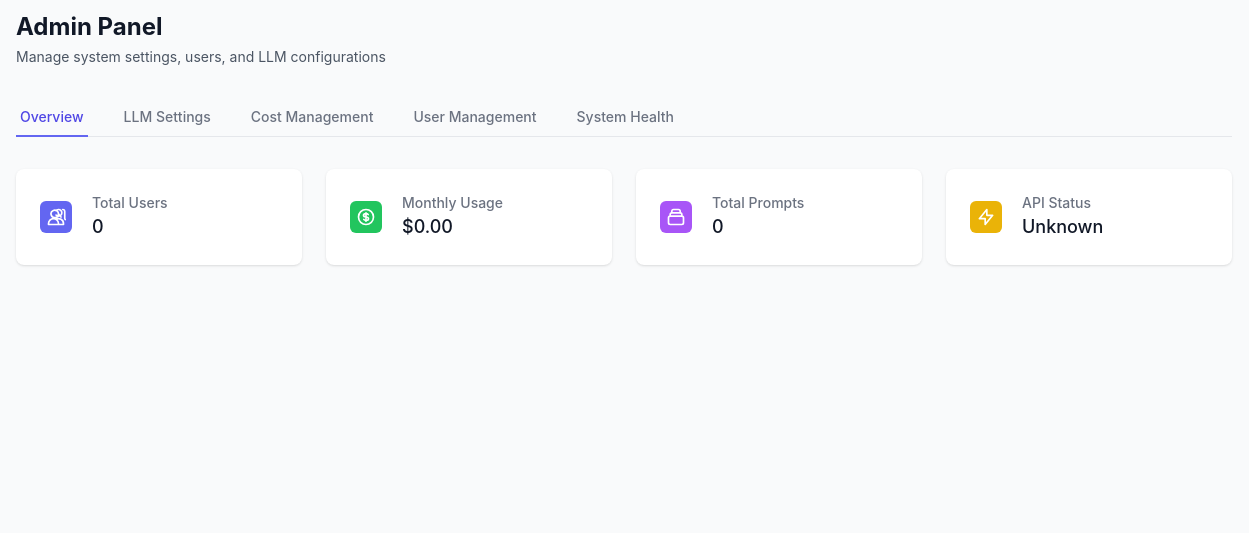
Test case: AdminPanel › should switch tabs when clicked
Click on LLM Settings tab
What coordinates should you click on to do the following:
click the button "LLM Settings"
I would click on:
 (167, 118)
Its box is [120,99,215,137].
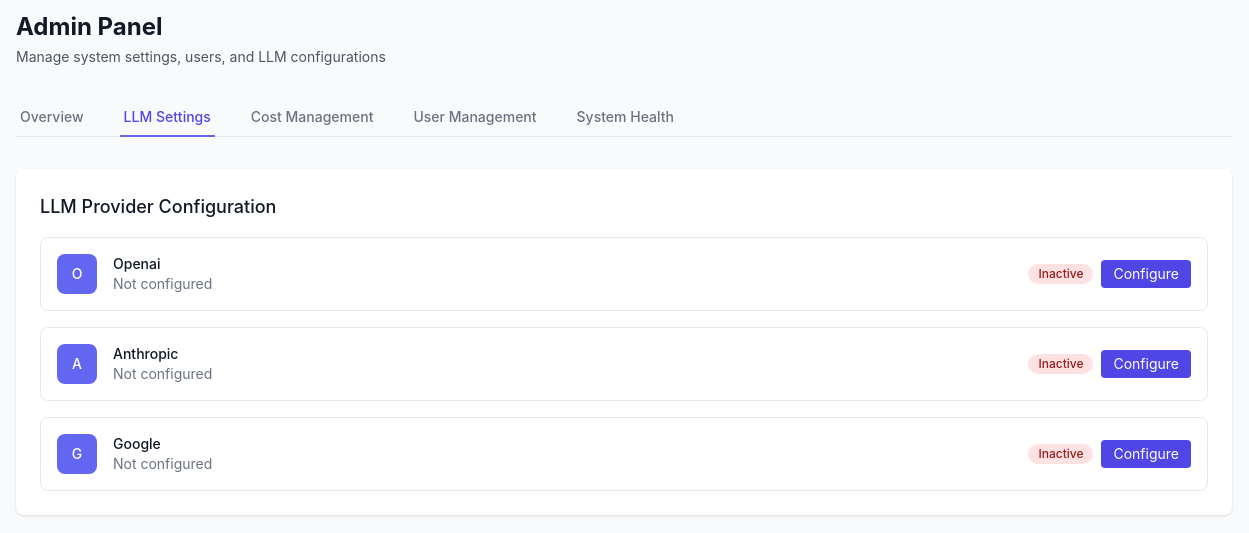
Expected: the heading "LLM Provider Configuration" is shown, [40,196,276,217]
